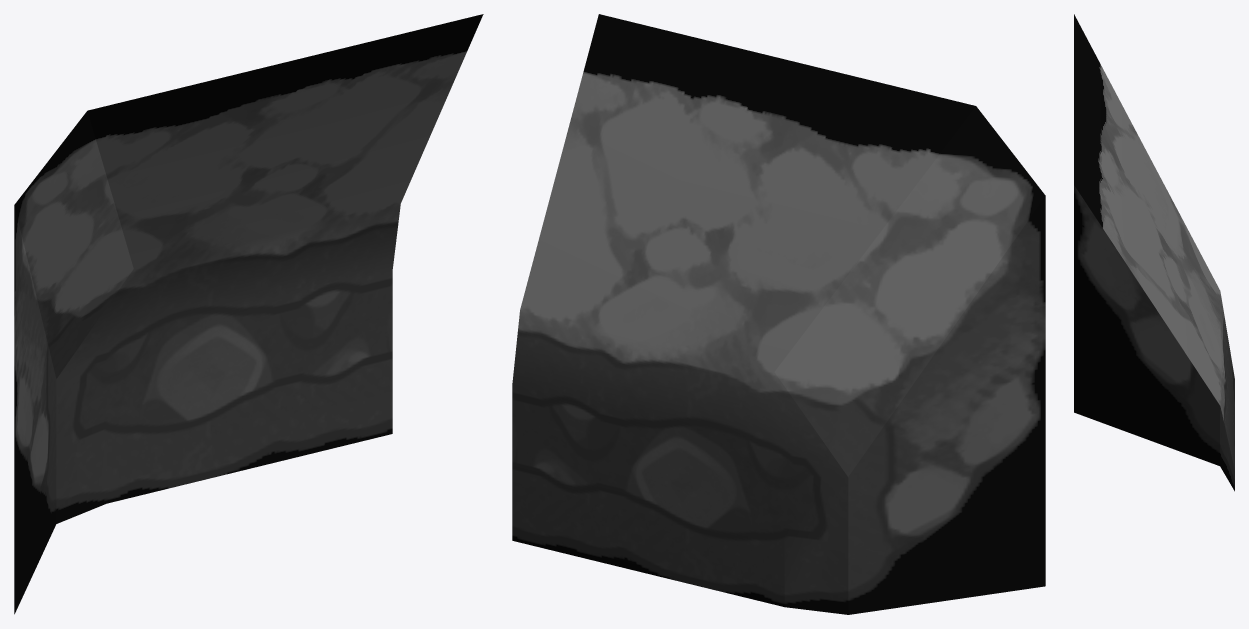
File: Tile8.fbx
3 renders of one model, left to right at view 1: azimuth 30°, elevation 25°; view 2: azimuth 150°, elevation 25°; view 3: azimuth 270°, elevation 25°, orthographic. The views are drawn at different scales.
Parts seen in each view (by area): view 1: polySurface3; view 2: polySurface3; view 3: polySurface3.
Part boxes in pixels (box(x1,y1,x2,y2)): polySurface3: box(14, 14, 483, 614); polySurface3: box(512, 14, 1045, 614); polySurface3: box(1074, 14, 1234, 491).
Bounding box in the file's own units: 1.99 × 1.97 × 0.6688.
Materials: 1 (1 with a texture image).
